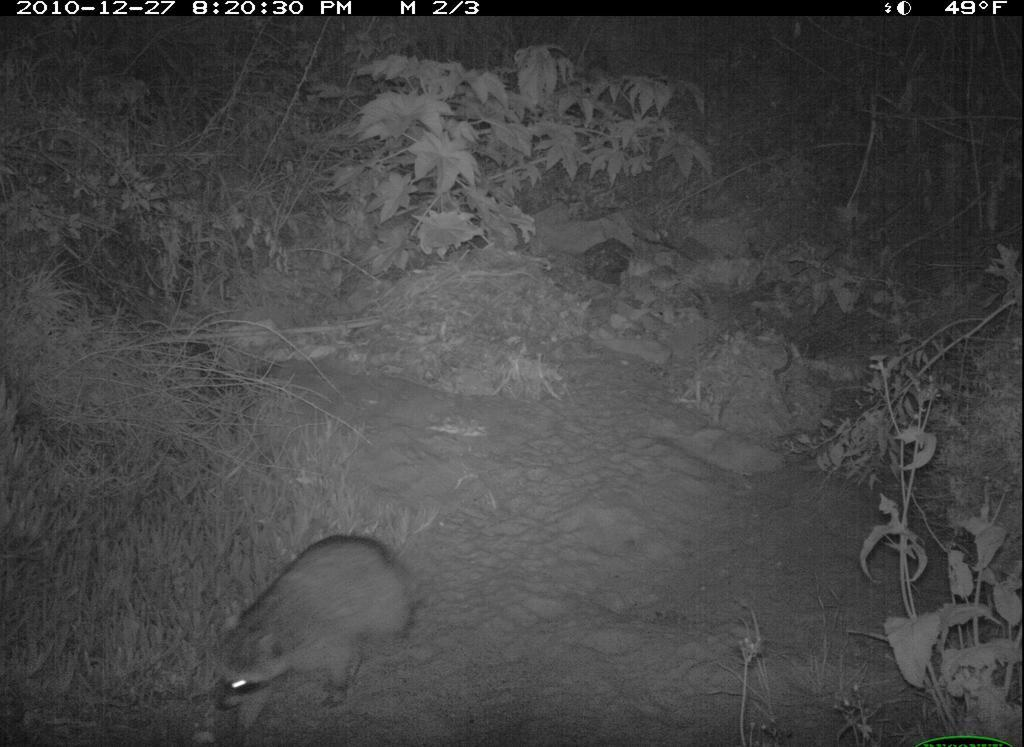raccoon: (205, 525, 436, 724)
